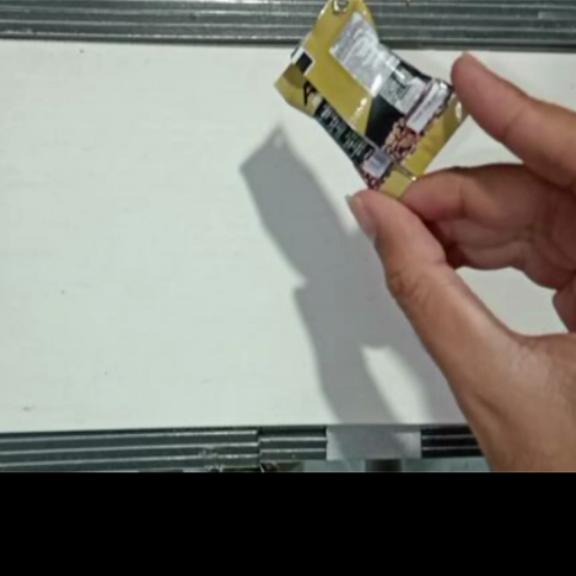Plastik: (274, 0, 470, 199)
